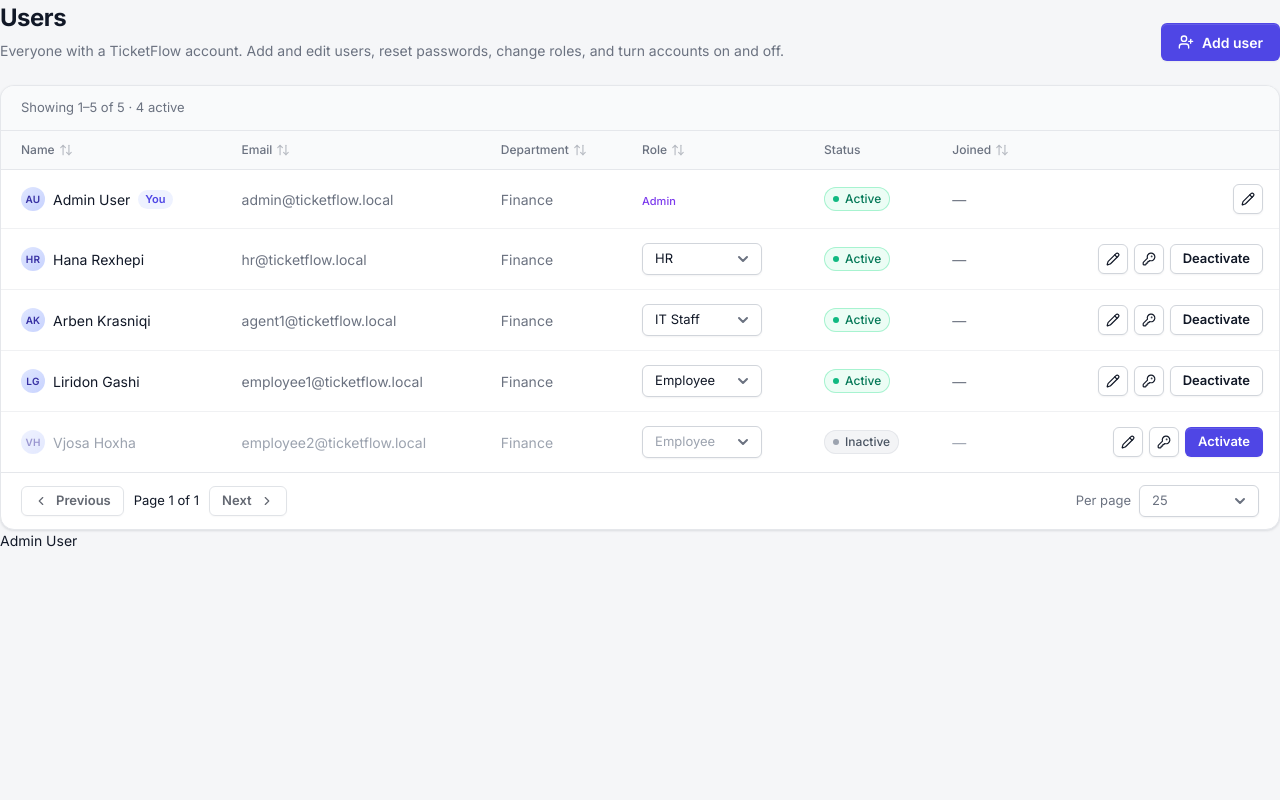
Scenario: Reset password › with email set up, says the link was emailed and shows no password
The width and height of the screenshot is (1280, 800).
Check: the table is shown, box [1,131,1279,472]
Click the button named "Reset password for Liridon Gashi".
click(1149, 381)  # box [1134,366,1164,396]
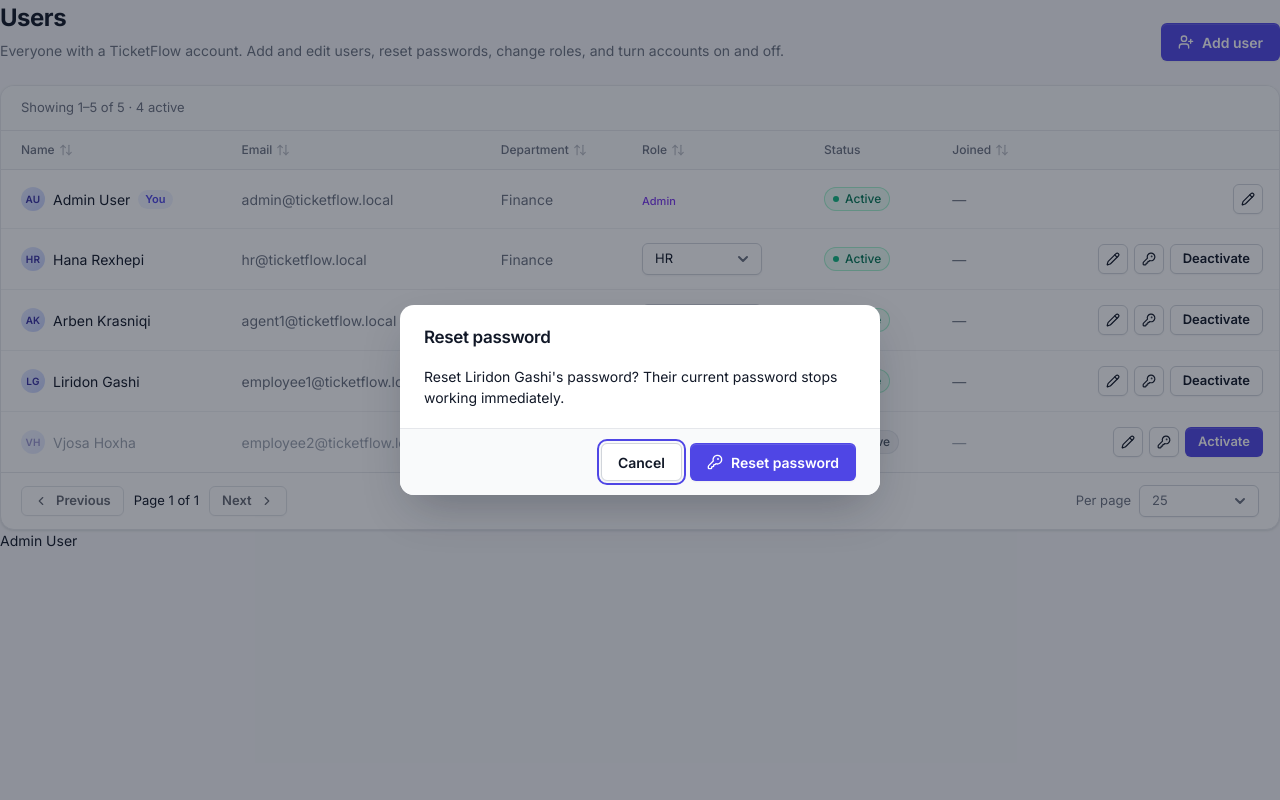
Click the button "Reset password".
click(773, 462)  # box [690,443,856,481]
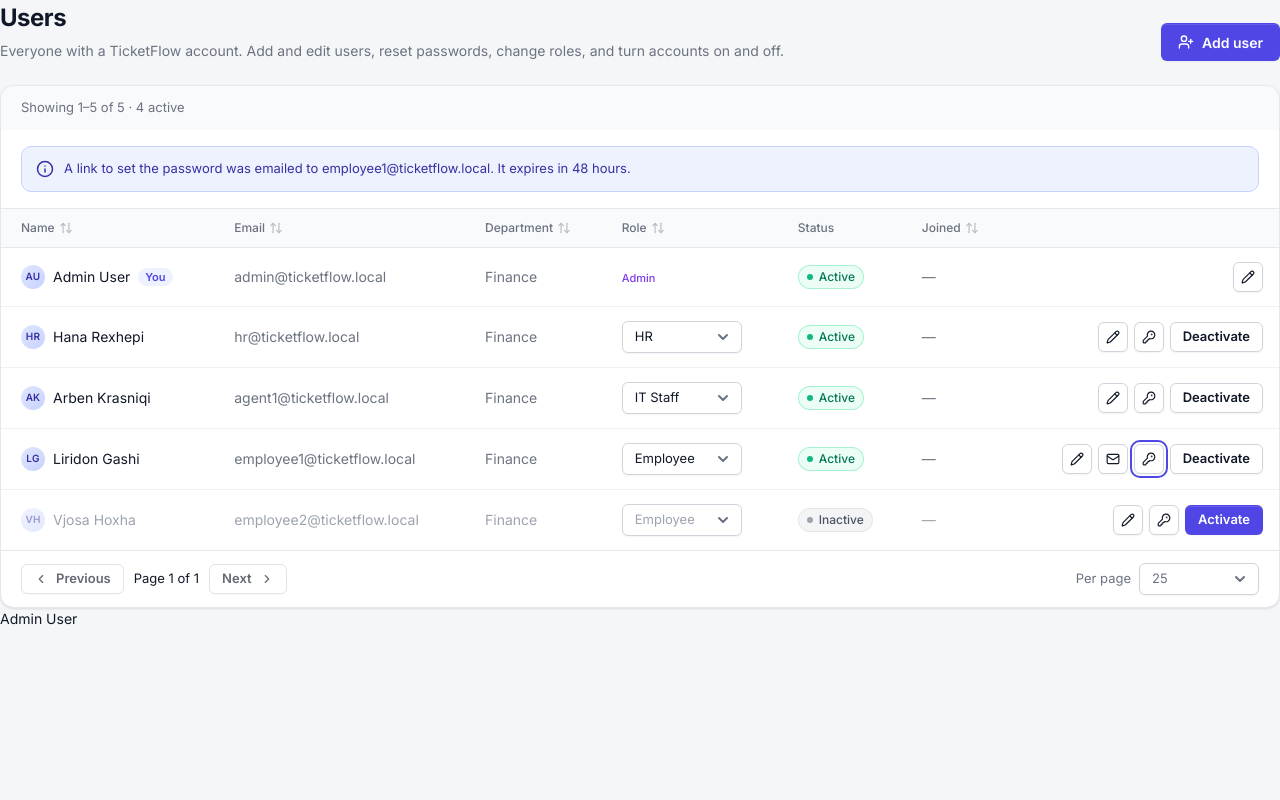
Check: the dialog is gone
